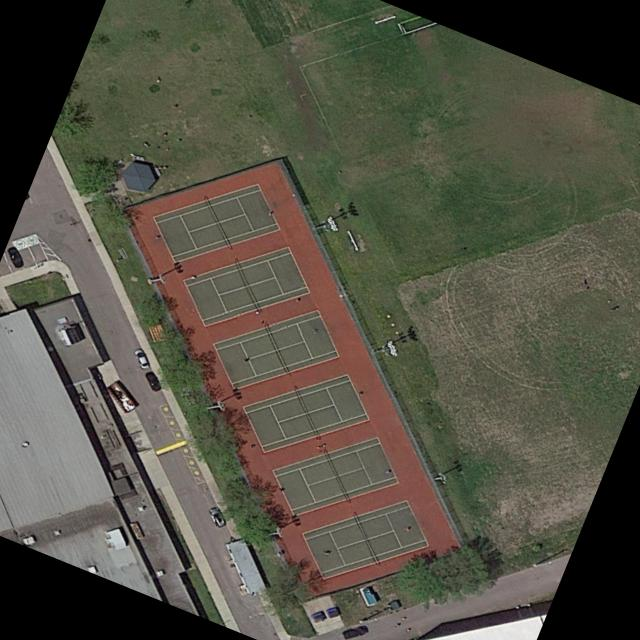small-vehicle: (4, 243, 23, 269), (340, 623, 368, 639), (142, 370, 161, 391), (206, 505, 225, 526), (131, 347, 149, 368)
